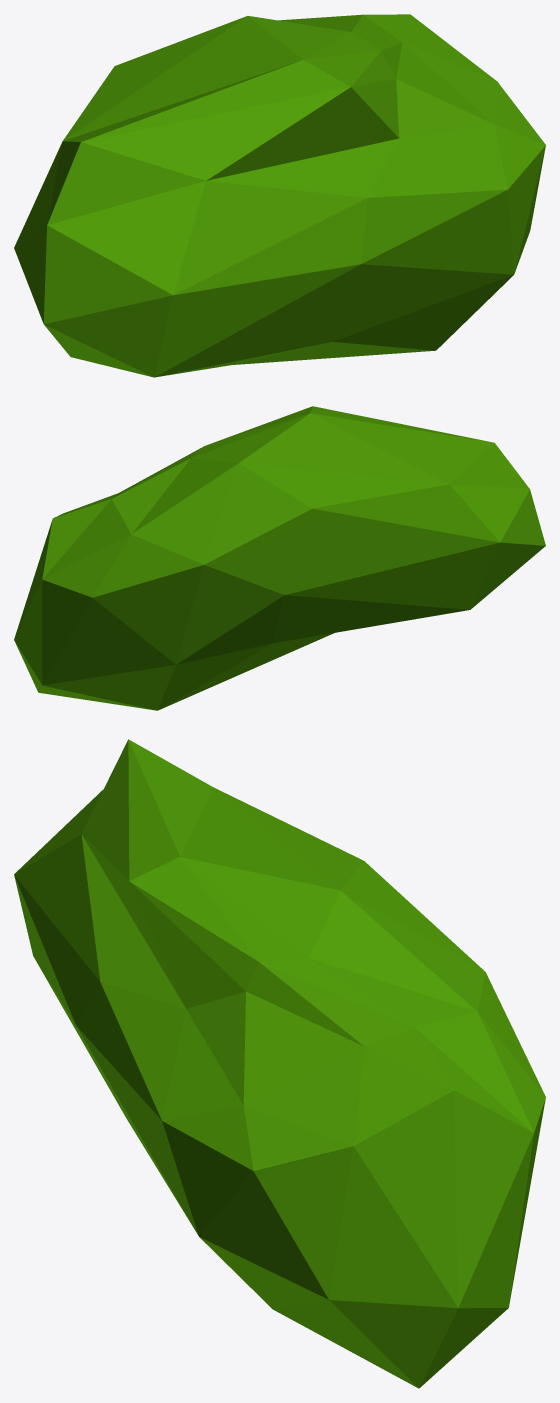
File: Vegetation_Modular_New_Tree_Leaf_Bunch_05.FBX
3 renders of one model, top to bottom at view 1: azimuth 30°, elevation 25°; view 2: azimuth 150°, elevation 25°; view 3: azimuth 270°, elevation 25°, orthographic. The views are drawn at different scales.
Visible parts, largest first — view 1: Vegetation_Modular_New_Tree_Leaf_Bunch_05; view 2: Vegetation_Modular_New_Tree_Leaf_Bunch_05; view 3: Vegetation_Modular_New_Tree_Leaf_Bunch_05.
Part boxes in pixels (x1,y1,x2,y2): Vegetation_Modular_New_Tree_Leaf_Bunch_05: [14, 14, 545, 377]; Vegetation_Modular_New_Tree_Leaf_Bunch_05: [14, 406, 545, 710]; Vegetation_Modular_New_Tree_Leaf_Bunch_05: [14, 739, 545, 1388].
Size of the model in its own units: 1666 by 1048 by 1275.
